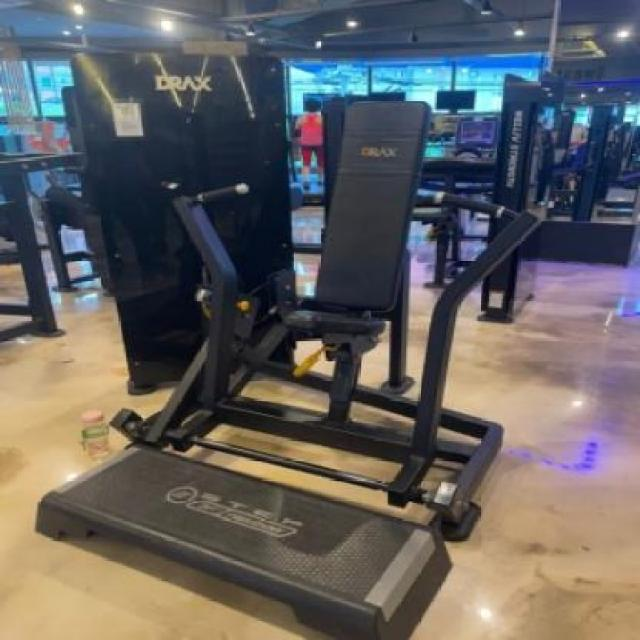Chest Press machine: (34, 44, 543, 640)
